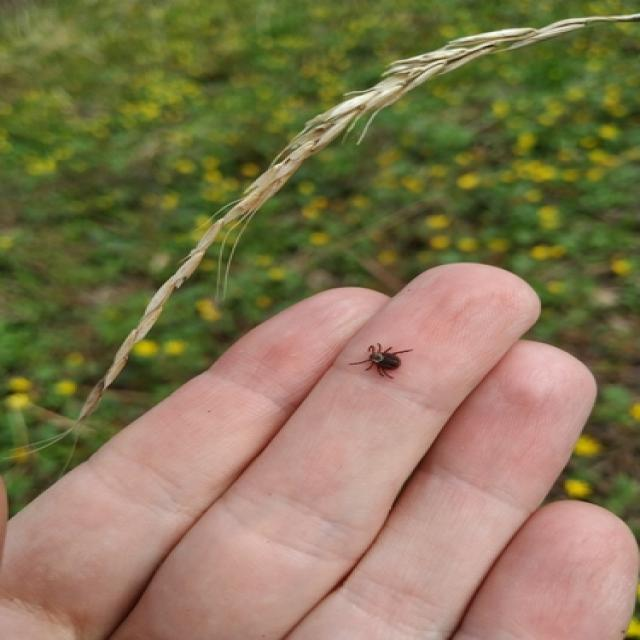Dermacentor Reticulatus-F: (346, 343, 420, 380)
